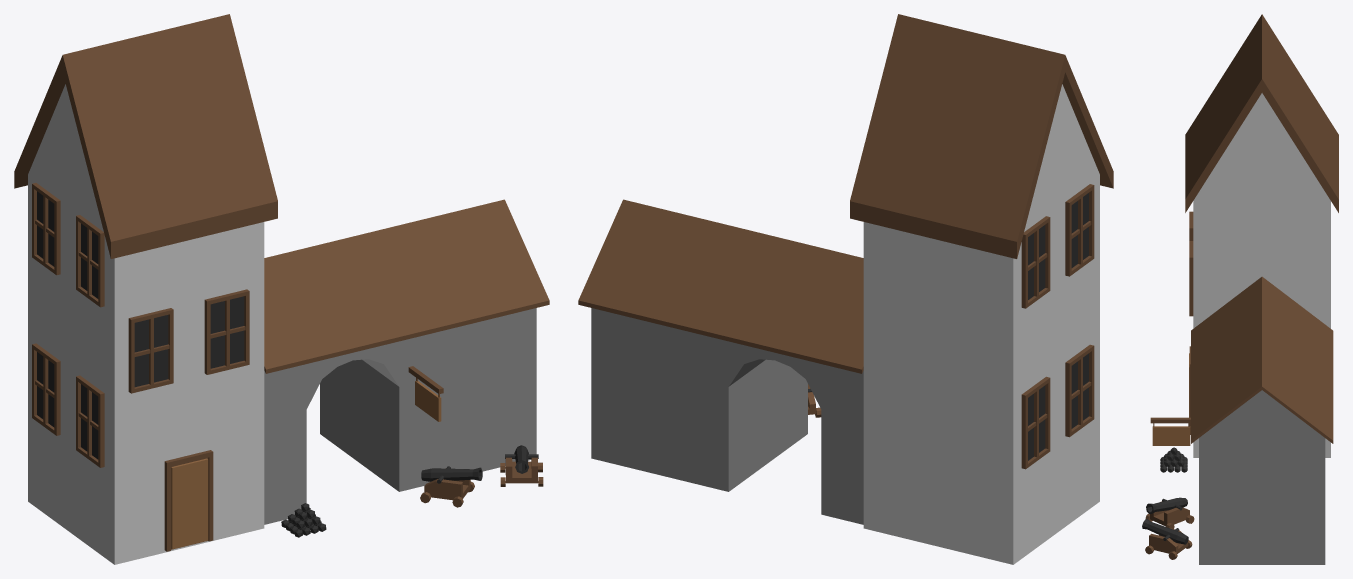
The model's file is GunShop_mat.fbx.
The picture shows the model from 3 angles, left to right: view 1: azimuth 30°, elevation 25°; view 2: azimuth 150°, elevation 25°; view 3: azimuth 270°, elevation 25°; orthographic projection. The views are drawn at different scales.
Visible parts, largest first — view 1: GunShop_mat; view 2: GunShop_mat; view 3: GunShop_mat.
Part boxes in pixels (x1,y1,x2,y2): GunShop_mat: [14, 14, 549, 564]; GunShop_mat: [578, 14, 1113, 564]; GunShop_mat: [1142, 14, 1338, 564].
Bounding box in the file's own units: 541 × 562 × 262.
